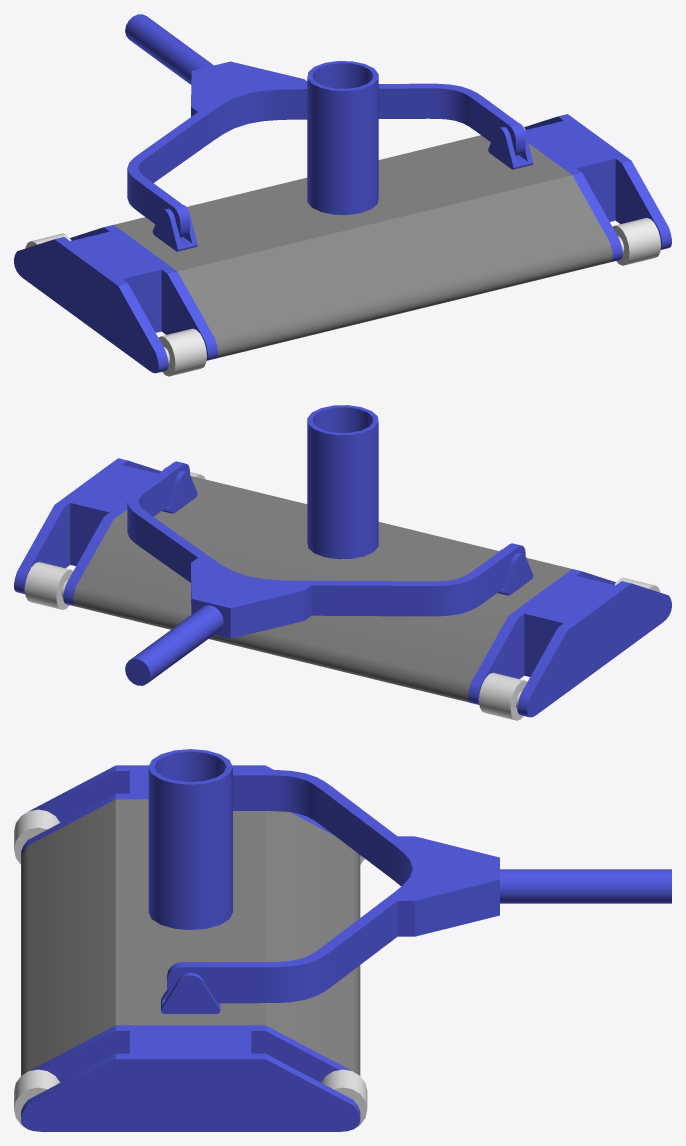
Rendered from Vaccum.fbx.
The picture shows the model from 3 angles, top to bottom: view 1: azimuth 30°, elevation 25°; view 2: azimuth 150°, elevation 25°; view 3: azimuth 270°, elevation 25°; orthographic projection. The views are drawn at different scales.
Visible parts, largest first — view 1: VaccumFloor, VacuumHandle; view 2: VaccumFloor, VacuumHandle; view 3: VaccumFloor, VacuumHandle.
Part boxes in pixels (bbox=[...]): VaccumFloor: bbox=[14, 61, 671, 376]; VacuumHandle: bbox=[125, 14, 525, 237]; VaccumFloor: bbox=[14, 405, 671, 720]; VacuumHandle: bbox=[125, 461, 525, 685]; VaccumFloor: bbox=[14, 749, 367, 1131]; VacuumHandle: bbox=[167, 770, 671, 1003].
Size of the model in its own units: 2.6 by 0.9311 by 2.46.
